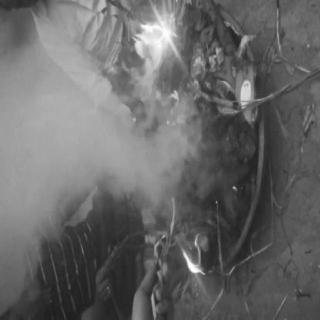other: (185, 37, 208, 113)
